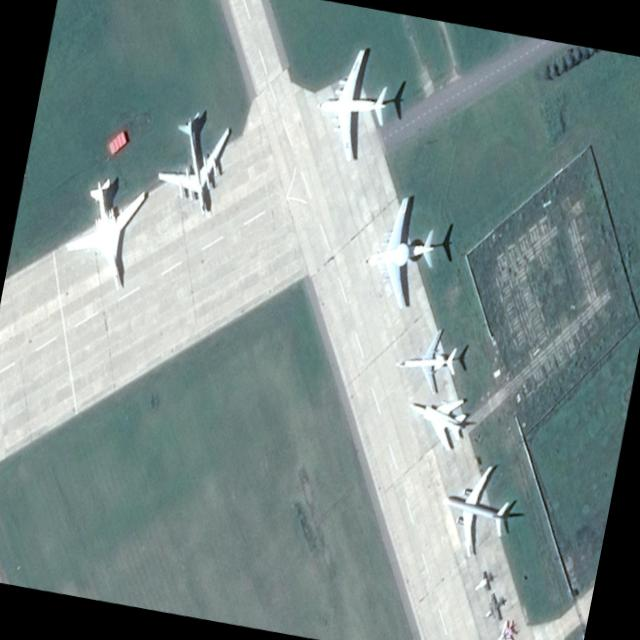plane: (59, 158, 154, 319), (155, 100, 233, 236), (309, 45, 393, 164), (360, 194, 438, 321), (431, 454, 516, 564), (401, 378, 472, 457), (389, 329, 461, 396), (480, 585, 511, 631), (471, 562, 497, 603), (489, 614, 518, 640)
